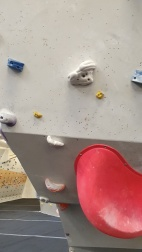Jug: (67, 58, 96, 86), (43, 177, 67, 195), (44, 134, 64, 147)
Pinch: (6, 56, 26, 72), (132, 69, 142, 88)
Sloper: (1, 108, 18, 129)
